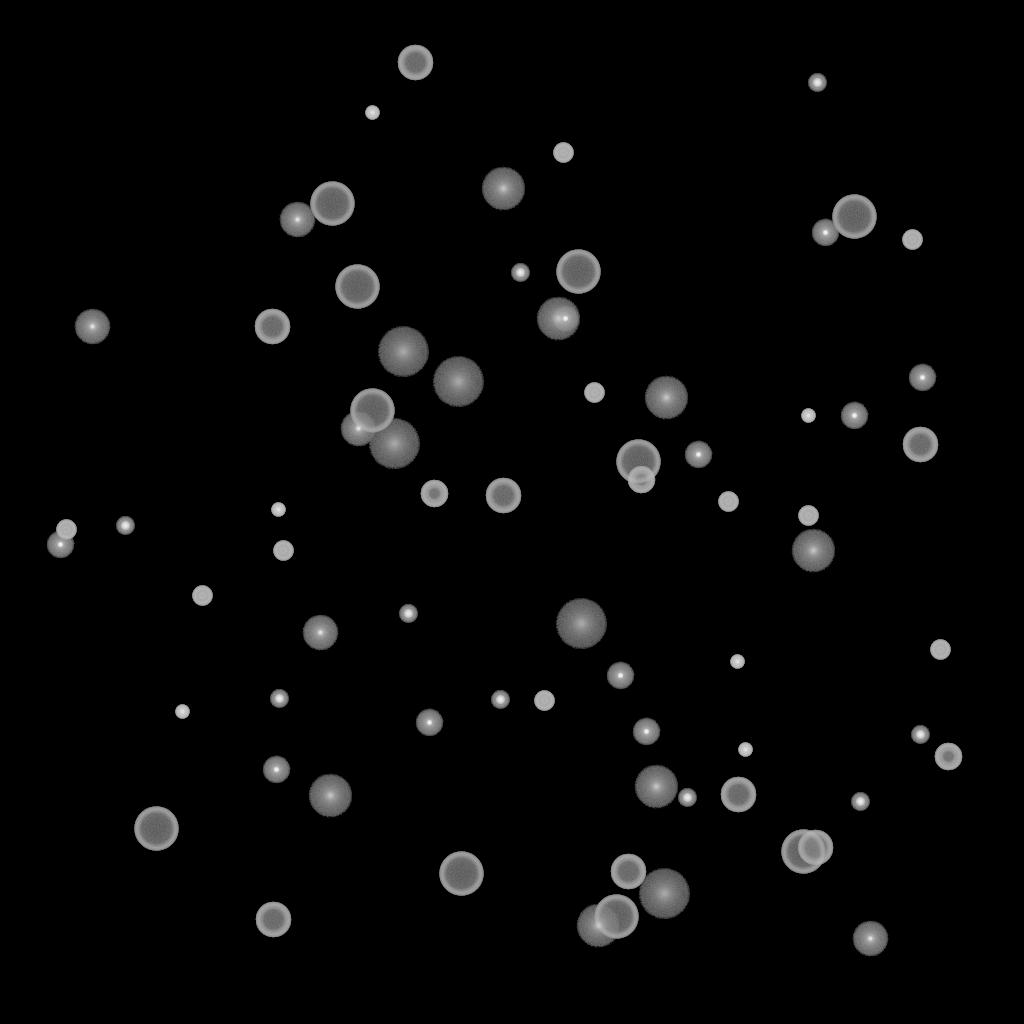depth:-10: (684, 441, 712, 469), (840, 402, 868, 430), (632, 718, 660, 746), (46, 531, 74, 559), (551, 305, 579, 333), (415, 709, 443, 737), (606, 662, 634, 690), (262, 756, 290, 784), (908, 364, 936, 392), (811, 219, 839, 247)
depth:-20: (808, 74, 826, 92), (270, 690, 288, 708), (851, 793, 869, 811), (491, 691, 509, 709), (399, 605, 417, 623), (678, 789, 696, 807), (511, 264, 529, 282), (911, 726, 929, 744), (116, 517, 134, 535)
depth:-30: (271, 503, 285, 517), (738, 743, 752, 757), (365, 106, 379, 120), (801, 409, 815, 423), (730, 655, 744, 669), (175, 705, 189, 719)
depth:-40: (273, 541, 293, 561), (553, 143, 573, 163), (930, 640, 950, 660), (584, 383, 604, 403), (798, 506, 818, 526), (902, 230, 922, 250), (56, 520, 76, 540), (534, 691, 554, 711), (718, 492, 738, 512), (192, 586, 212, 606)
depth:-50: (627, 466, 655, 494), (934, 743, 962, 771), (420, 480, 448, 508)
depth:-60: (610, 854, 646, 890), (902, 427, 938, 463), (397, 45, 433, 81), (720, 777, 756, 813), (254, 309, 290, 345), (797, 830, 833, 866), (485, 478, 521, 514), (255, 902, 291, 938)
depth:-70: (310, 182, 354, 226), (350, 389, 394, 433), (594, 895, 638, 939), (832, 195, 876, 239), (134, 807, 178, 851), (556, 250, 600, 294), (616, 440, 660, 484), (439, 852, 483, 896), (335, 265, 379, 309), (781, 830, 825, 874)
depth:0: (74, 309, 110, 345), (340, 411, 376, 447), (852, 921, 888, 957), (279, 202, 315, 238), (302, 615, 338, 651)
depth:10: (536, 297, 580, 341), (634, 765, 678, 809), (791, 529, 835, 573), (308, 774, 352, 818), (481, 167, 525, 211), (644, 376, 688, 420), (576, 904, 620, 948)
depth:20: (432, 357, 484, 407), (638, 869, 690, 919), (555, 599, 607, 649), (377, 327, 429, 377), (368, 419, 420, 469)
